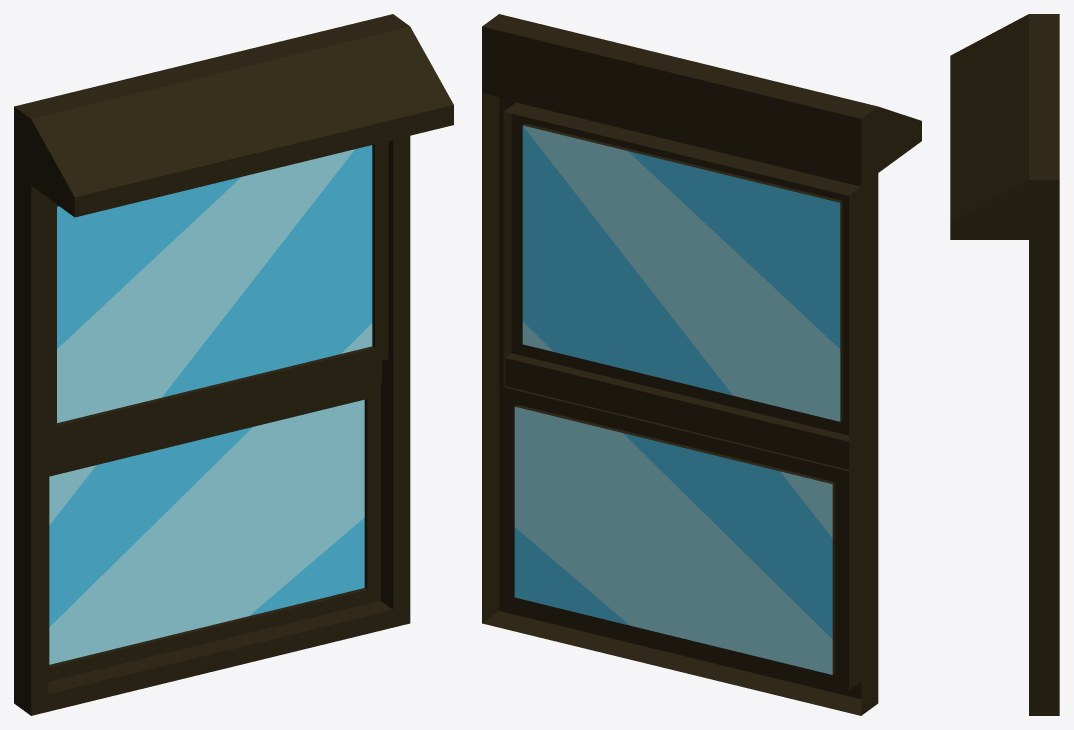
The model's file is Prop_BuildingWindow_03.fbx.
3 views of the same model, side by side, from view 1: azimuth 30°, elevation 25°; view 2: azimuth 150°, elevation 25°; view 3: azimuth 270°, elevation 25° (orthographic). The views are drawn at different scales.
Parts seen in each view (by area): view 1: Prop_BuildingWindow_03; view 2: Prop_BuildingWindow_03; view 3: Prop_BuildingWindow_03.
Boxes of the visible parts, <box> form: Prop_BuildingWindow_03: <box>14,14,453,715</box>; Prop_BuildingWindow_03: <box>482,14,921,715</box>; Prop_BuildingWindow_03: <box>950,14,1059,715</box>.
Size of the model in its own units: 109 by 164 by 30.19.
